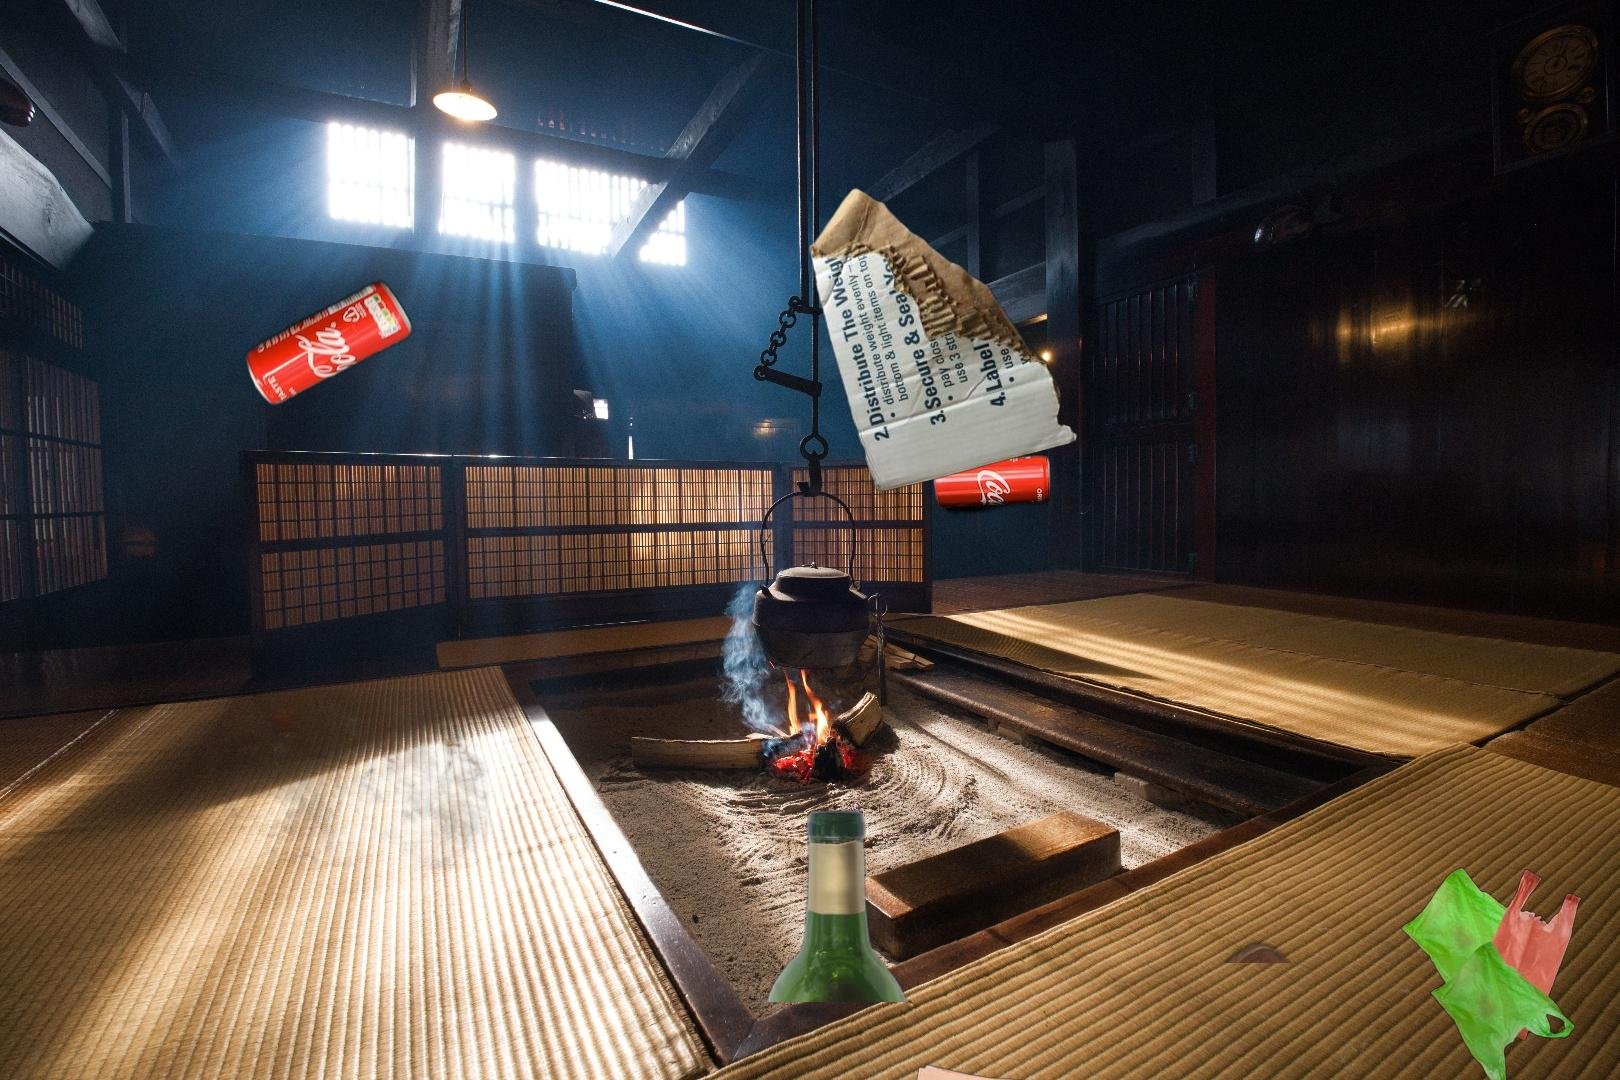biological: (215, 689, 491, 873)
glass: (761, 808, 914, 1002)
metal-cans: (826, 450, 1295, 963), (240, 275, 416, 412)
paper-bag: (809, 1063, 1043, 1080)
plastic-bag: (1398, 864, 1584, 1080)
trashbox-cardboard: (804, 184, 1081, 495), (1373, 108, 1620, 357)
